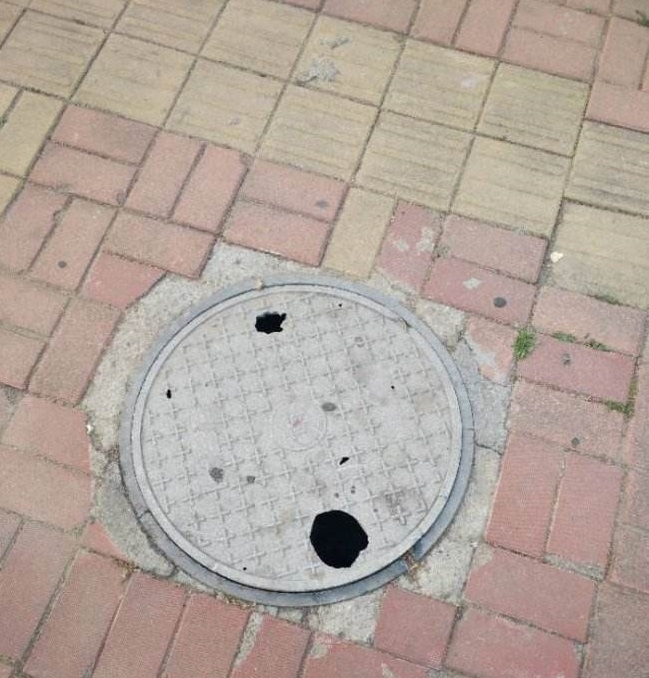well: (121, 278, 477, 605)
